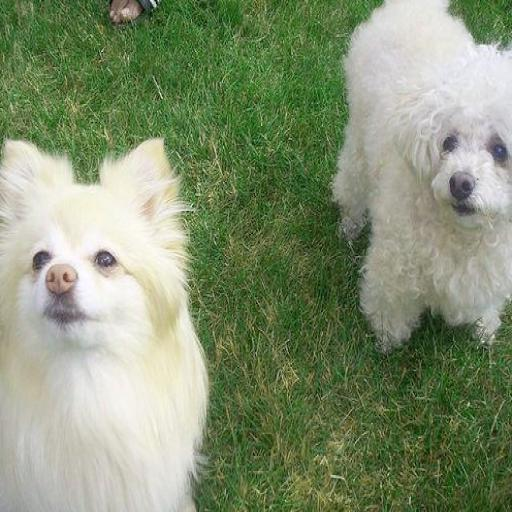dog_face: (2, 141, 180, 364), (398, 56, 512, 219)
